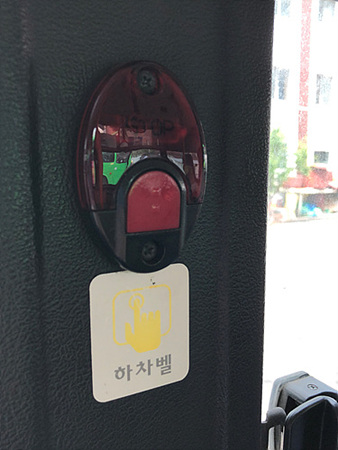bell: (75, 60, 209, 272)
